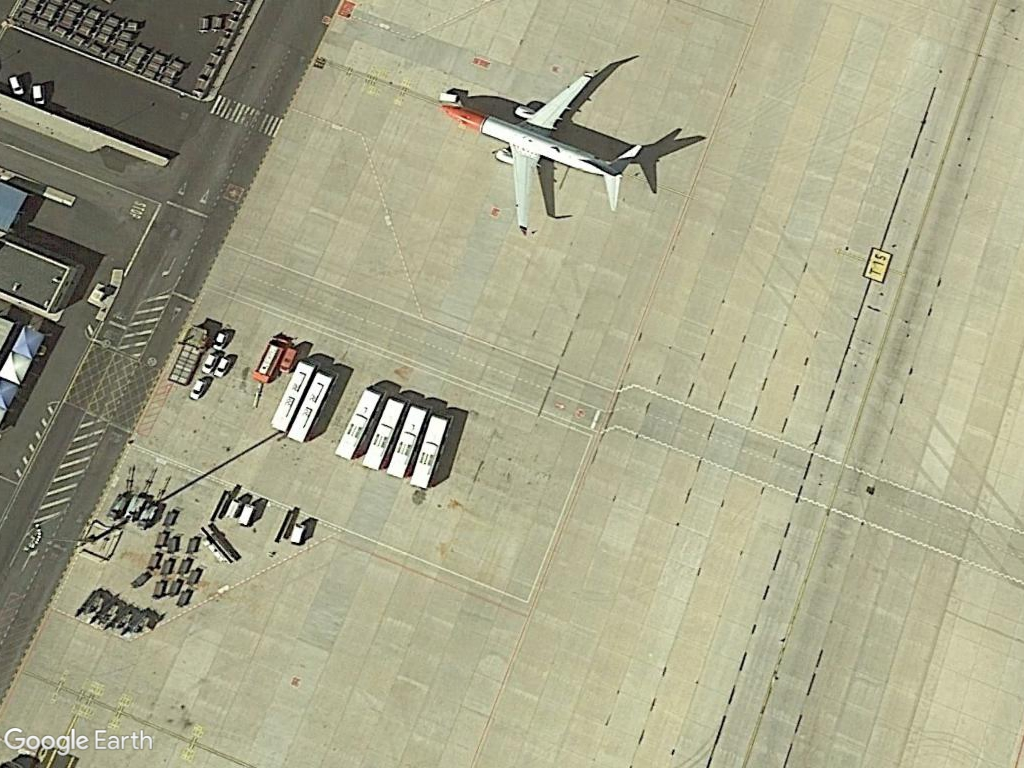airliner: (431, 55, 653, 244)
bus: (375, 390, 445, 492), (353, 384, 418, 480), (282, 354, 337, 448), (403, 405, 459, 496), (333, 377, 388, 469), (265, 351, 318, 442)
other: (254, 332, 290, 384)
stairtruck: (169, 319, 211, 392)
